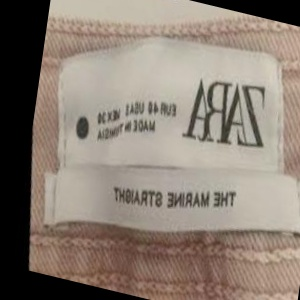zara: (187, 31, 300, 122)
